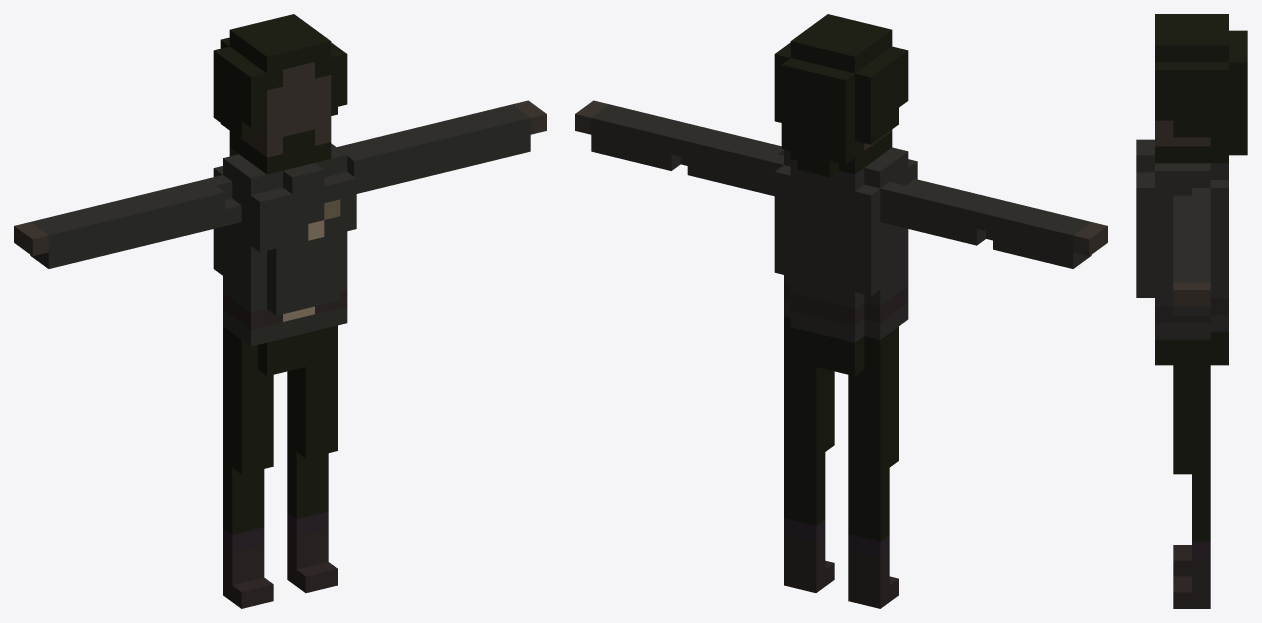
The model's file is TPose_Character11.glb.
3 views of the same model, side by side, from view 1: azimuth 30°, elevation 25°; view 2: azimuth 150°, elevation 25°; view 3: azimuth 270°, elevation 25° (orthographic).
Parts seen in each view (by area): view 1: Character11; view 2: Character11; view 3: Character11.
Boxes of the visible parts, x1,y1,x2,y2 form: Character11: (14, 14, 546, 608); Character11: (575, 14, 1107, 608); Character11: (1136, 14, 1247, 608).
Size of the model in its own units: 1.94 by 2 by 0.3635.
Materials: 1 (1 with a texture image).
